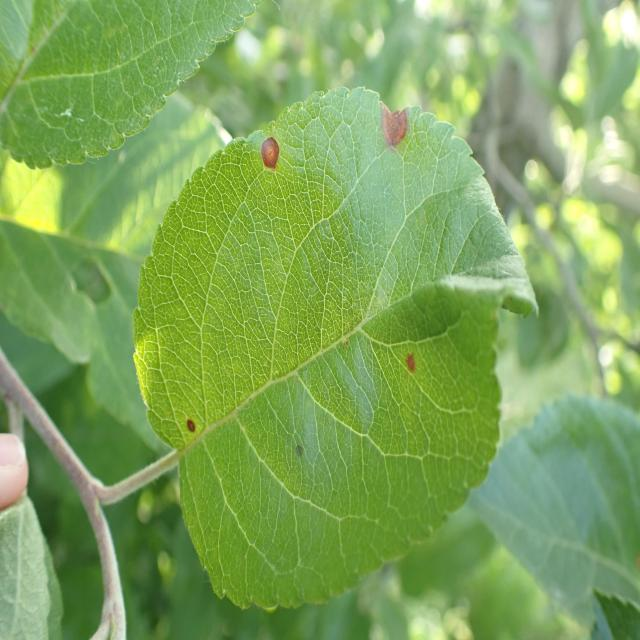Black Rot: (375, 84, 422, 180), (257, 120, 287, 206), (403, 342, 422, 386), (184, 408, 200, 453)
